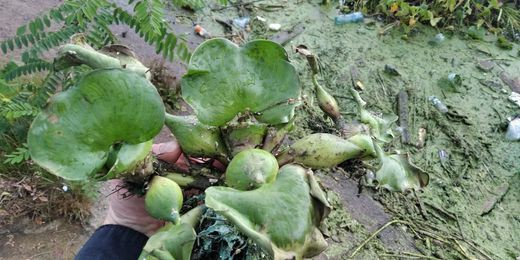water_hyacinth: (31, 30, 402, 260)
